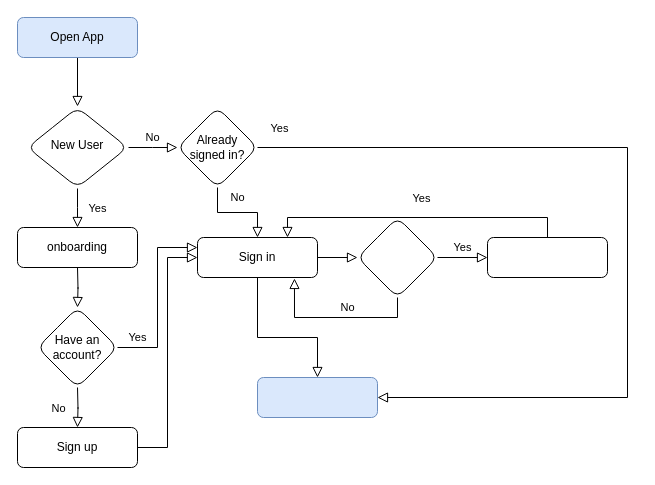
The diagram is 655 pixels wide and 485 high, and some of its shapes have lost their labels. The shapes that lost their labels are listed below. From the top down, each one's centre as x and y in pixels, then its label:
At (x=397, y=257): "Forget Password".
At (x=547, y=257): "Recovery".
At (x=317, y=397): "Home".
